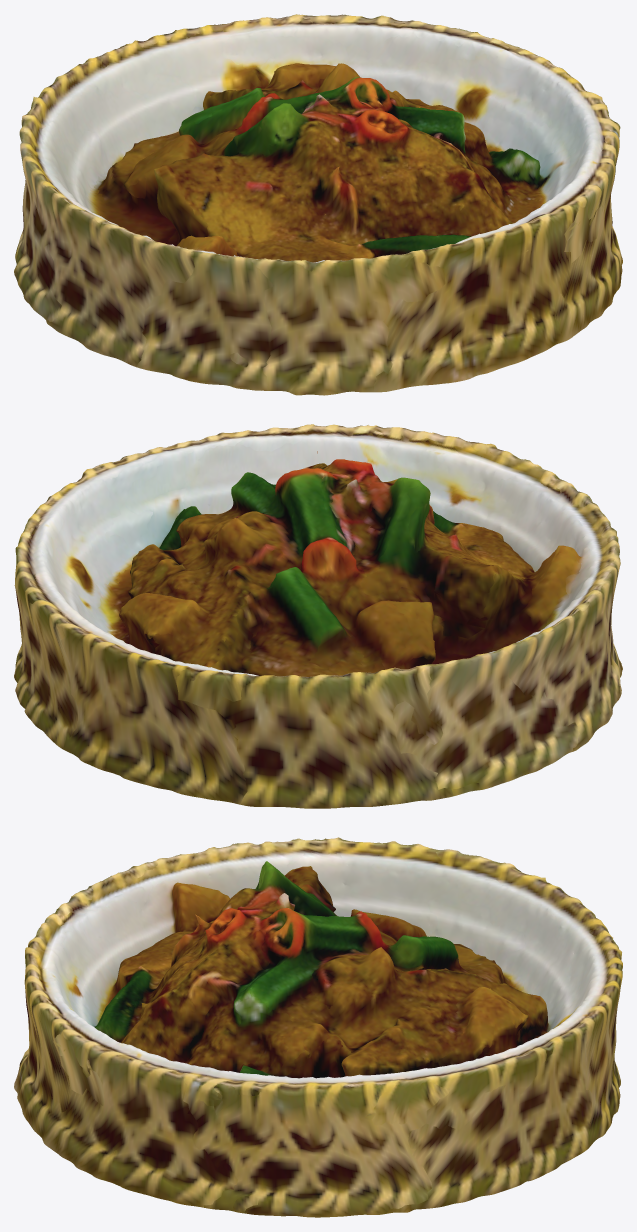
Rendered from vegan_assam__fish_head_scaniverse.glb.
The picture shows the model from 3 angles, top to bottom: view 1: azimuth 30°, elevation 25°; view 2: azimuth 150°, elevation 25°; view 3: azimuth 270°, elevation 25°; orthographic projection.
Parts seen in each view (by area): view 1: mesh_main_0 (×2); view 2: mesh_main_0 (×2); view 3: mesh_main_0 (×2).
Boxes of the visible parts, x1=… form: mesh_main_0 (×2): x1=14, y1=14, x2=622, y2=395; mesh_main_0 (×2): x1=14, y1=424, x2=622, y2=808; mesh_main_0 (×2): x1=14, y1=837, x2=622, y2=1217.
Bounding box in the file's own units: 0.2149 × 0.0767 × 0.2165.
Materials: 1 (1 with a texture image).
